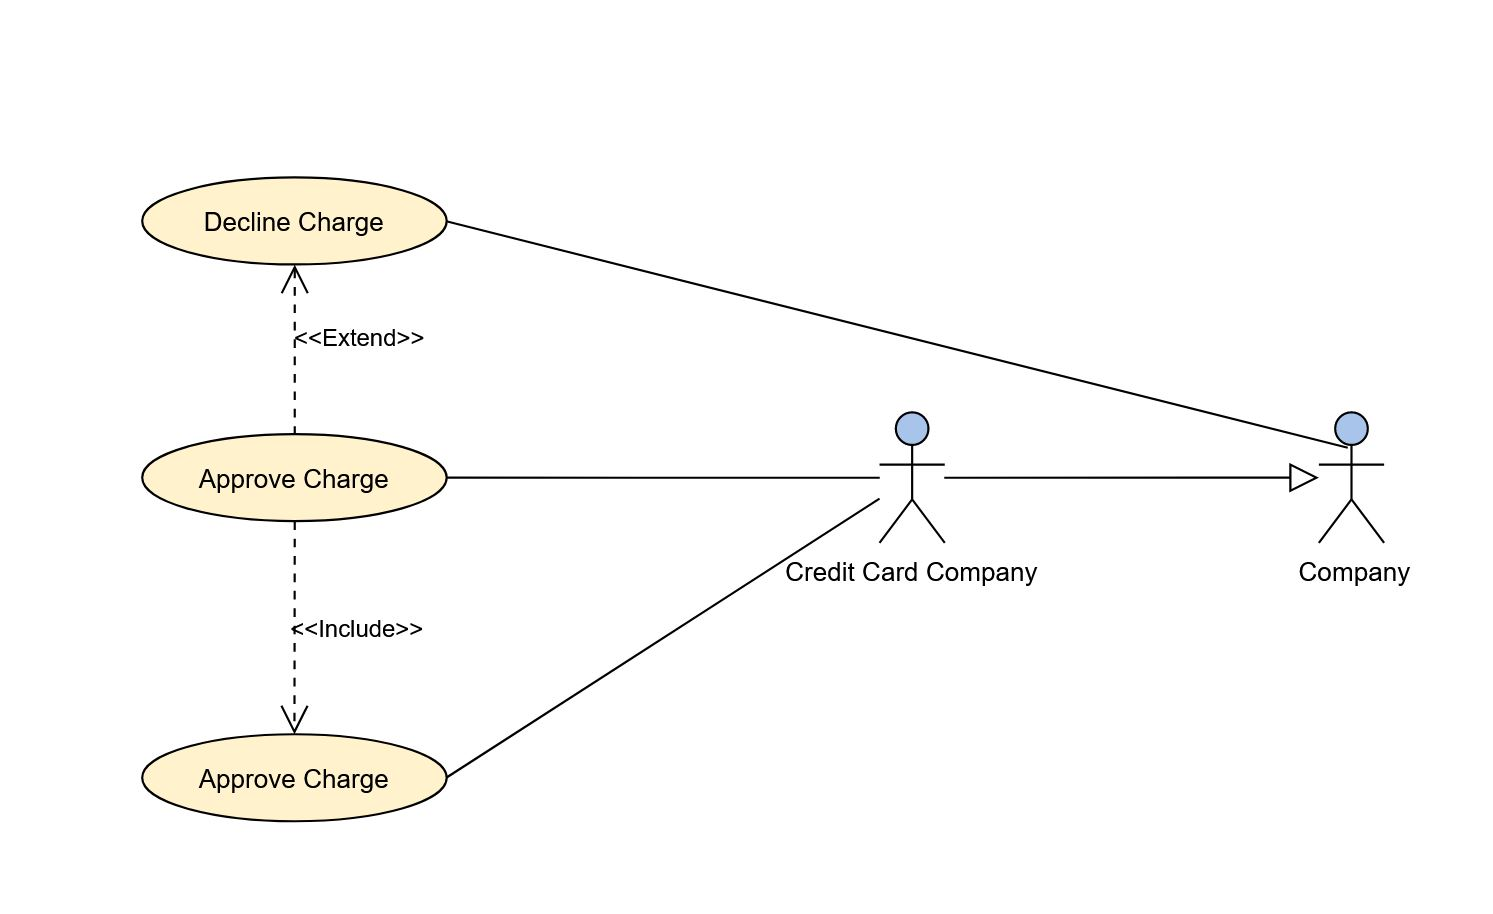actor: (874, 407, 948, 547), (1322, 408, 1384, 543)
association: (450, 219, 1335, 444), (446, 492, 883, 776), (448, 456, 880, 497), (275, 523, 315, 729), (276, 263, 312, 429)
generalization: (949, 456, 1322, 500)
text: (178, 458, 400, 498), (785, 560, 1044, 590), (200, 204, 384, 241), (195, 761, 390, 796), (1298, 559, 1412, 589), (295, 324, 428, 350), (291, 619, 423, 642)
use_case: (139, 431, 449, 525), (141, 174, 450, 268), (139, 732, 447, 822)
